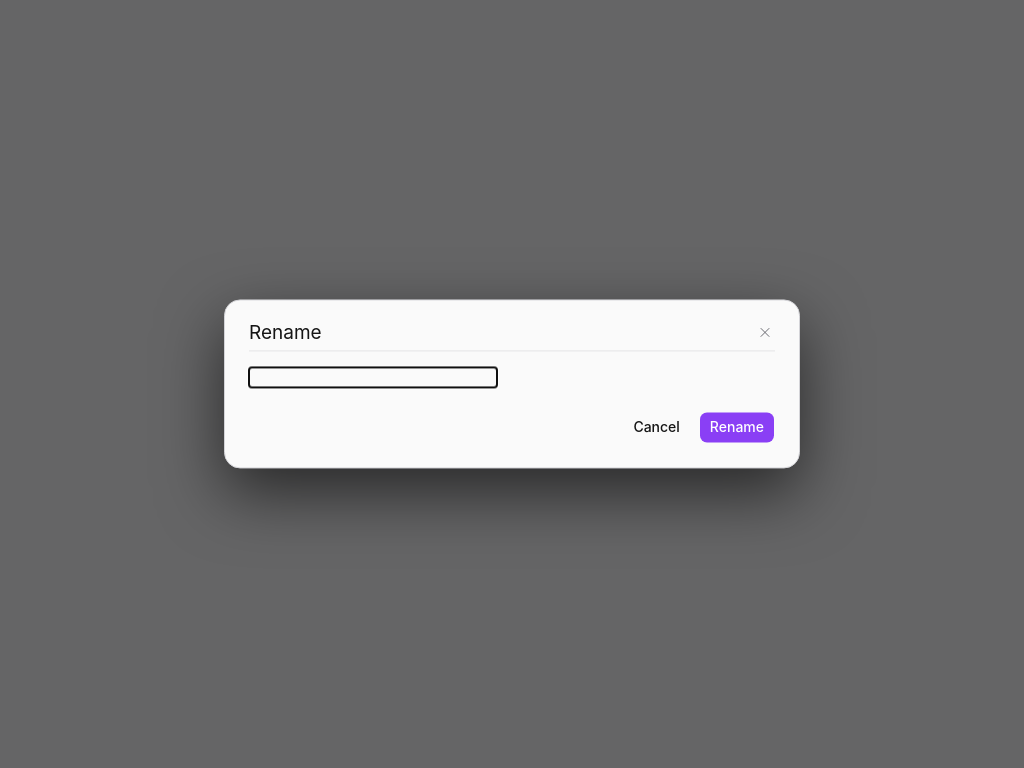
Test: should show the message of a rejected { message } object
This screenshot has width=1024, height=768.
Click the button "Rename" at (737, 428), box x1=699 y1=412 x2=775 y2=444
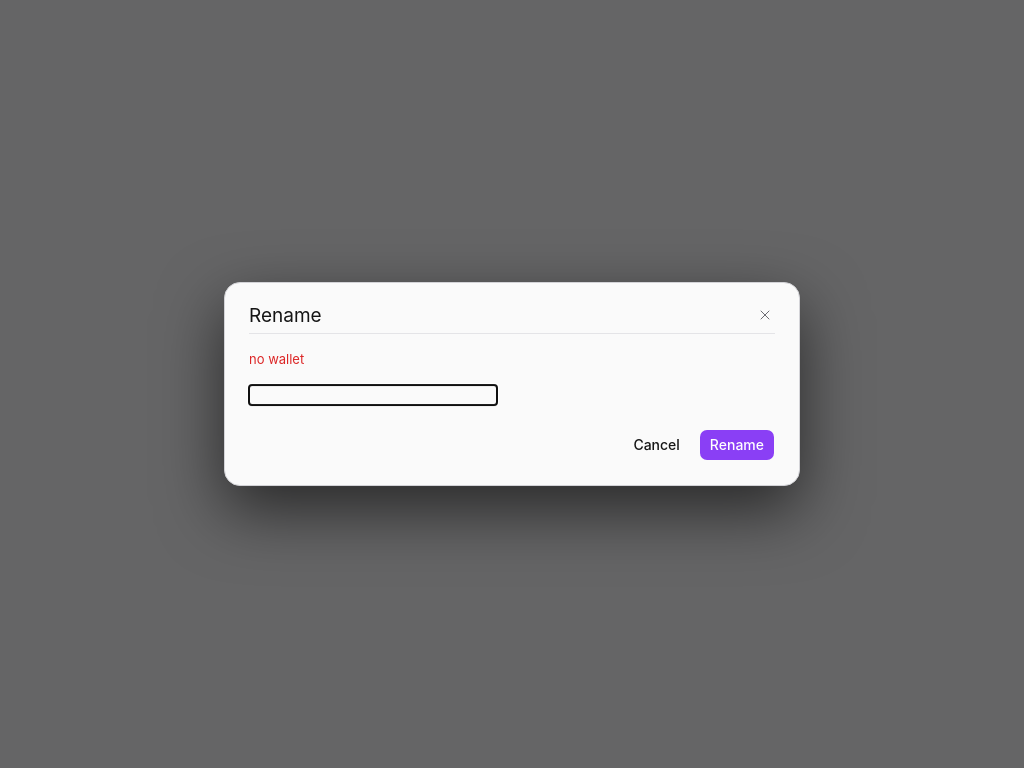
Check: the message reads "no wallet", box x1=249 y1=351 x2=304 y2=367
